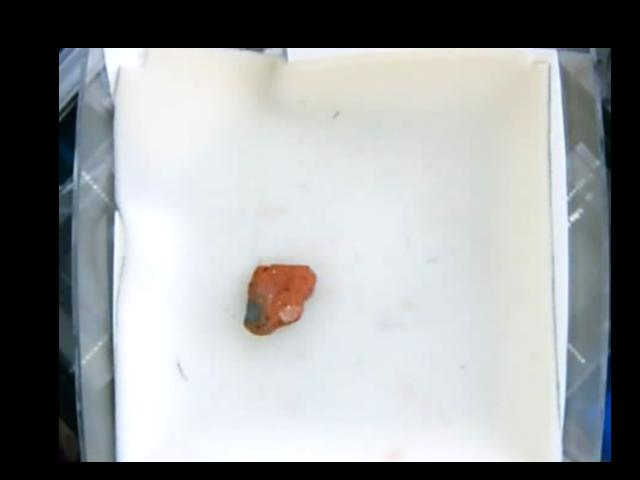Brisk: (241, 264, 318, 336)
